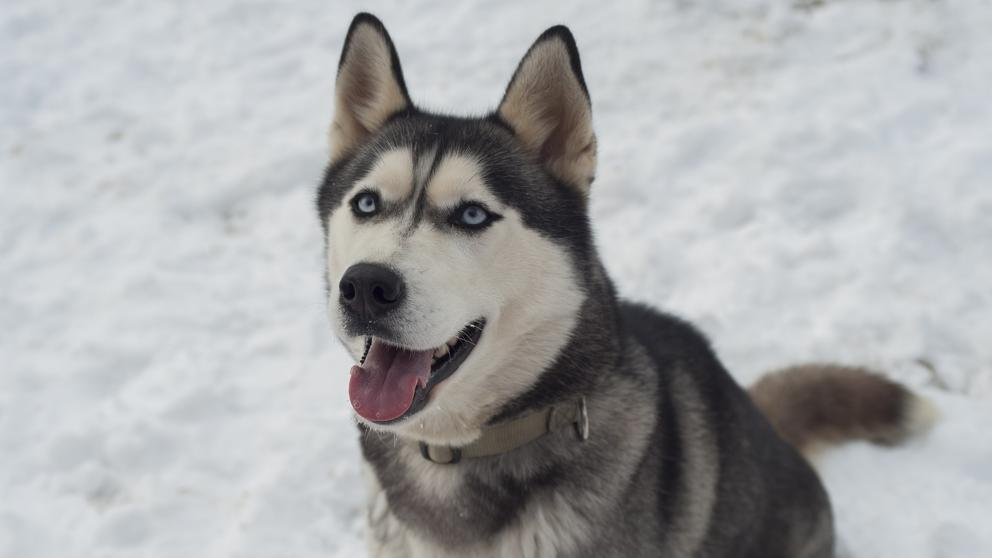husky: (297, 8, 646, 550)
